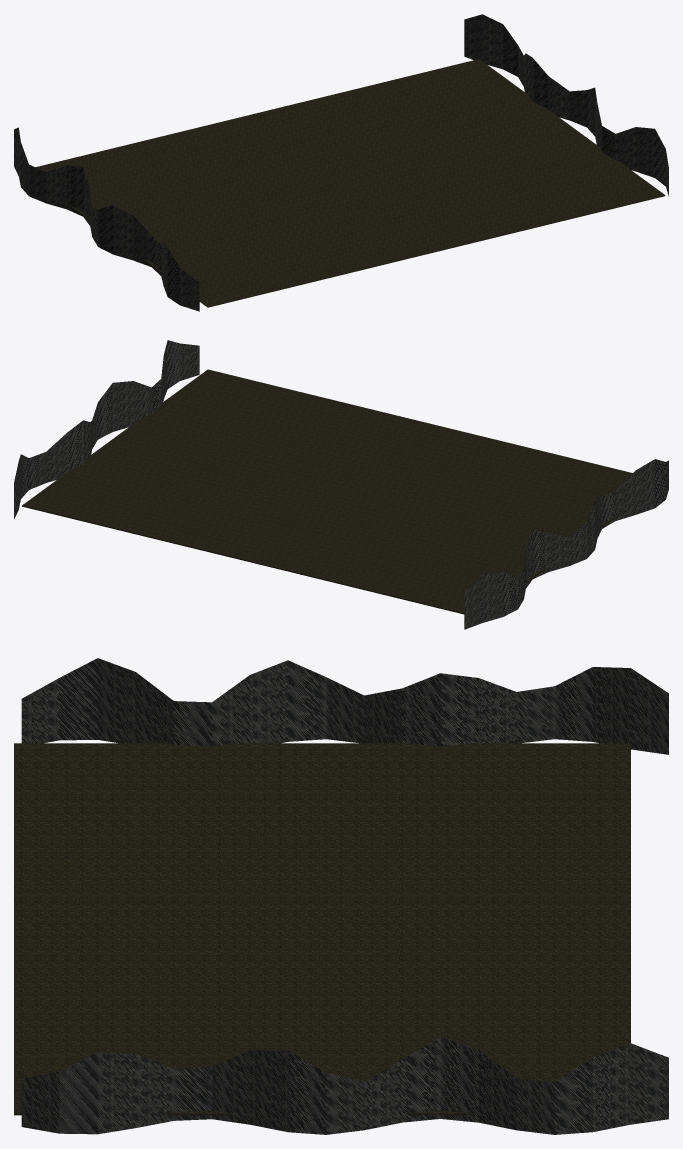
Rendered from PL_Terrain_Chunks.fbx.
3 renders of one model, top to bottom at view 1: azimuth 30°, elevation 25°; view 2: azimuth 150°, elevation 25°; view 3: azimuth 270°, elevation 25°, orthographic. The views are drawn at different scales.
Visible parts, largest first — view 1: PL_ForestUnderlay, PL_DistantRidge_1, PL_DistantRidge_-1; view 2: PL_ForestUnderlay, PL_DistantRidge_-1, PL_DistantRidge_1; view 3: PL_ForestUnderlay, PL_DistantRidge_1, PL_DistantRidge_-1.
Part boxes in pixels (bbox=[...]): PL_ForestUnderlay: bbox=[35, 59, 665, 307]; PL_DistantRidge_1: bbox=[464, 14, 668, 196]; PL_DistantRidge_-1: bbox=[14, 127, 199, 311]; PL_ForestUnderlay: bbox=[22, 369, 632, 614]; PL_DistantRidge_-1: bbox=[464, 459, 668, 629]; PL_DistantRidge_1: bbox=[14, 340, 199, 519]; PL_ForestUnderlay: bbox=[14, 743, 630, 1115]; PL_DistantRidge_1: bbox=[21, 1037, 668, 1134]; PL_DistantRidge_-1: bbox=[21, 658, 668, 754].
Bounding box in the file's own units: 24591 × 2376 × 17200.
Materials: 2 (2 with a texture image).
